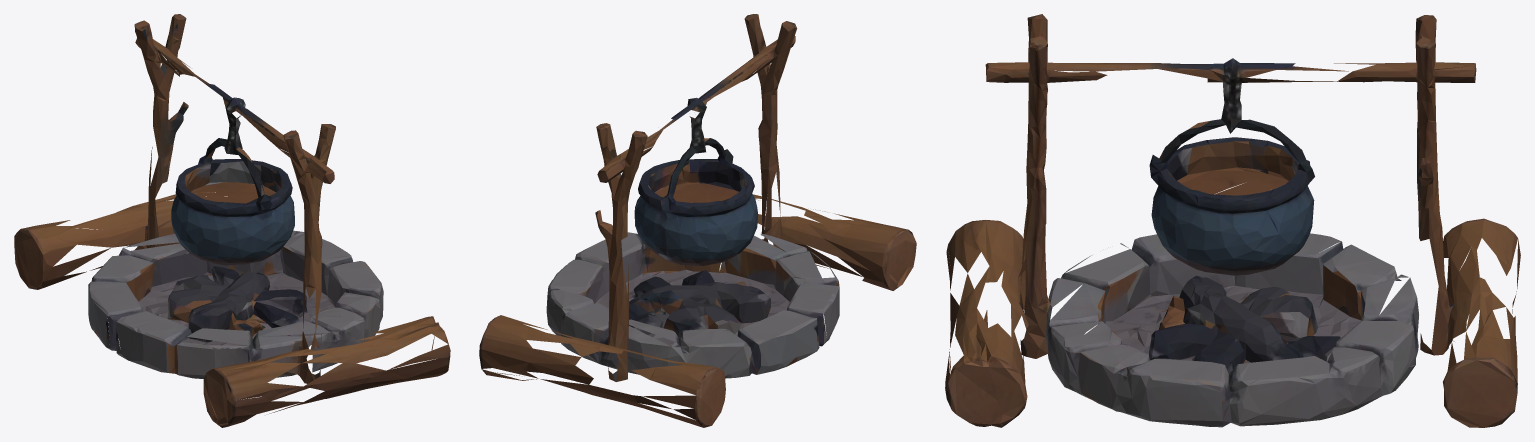
Rendered from camp_cauldron.glb.
3 views of the same model, side by side, from view 1: azimuth 30°, elevation 25°; view 2: azimuth 150°, elevation 25°; view 3: azimuth 270°, elevation 25° (orthographic). The views are drawn at different scales.
Visible parts, largest first — view 1: geometry_0; view 2: geometry_0; view 3: geometry_0.
Boxes of the visible parts, x1,y1,x2,y2 form: geometry_0: (14,14,450,427); geometry_0: (479,14,916,427); geometry_0: (945,14,1520,427).
Bounding box in the file's own units: 1.26 × 1.23 × 1.92.
Materials: 1 (1 with a texture image).
